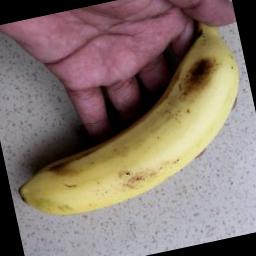Banana Ripe: (0, 17, 256, 242)
